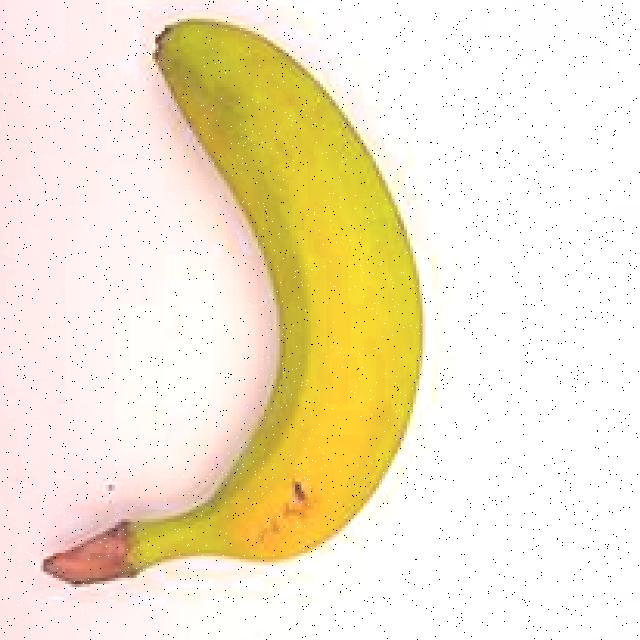Unripe: (19, 5, 443, 607)
